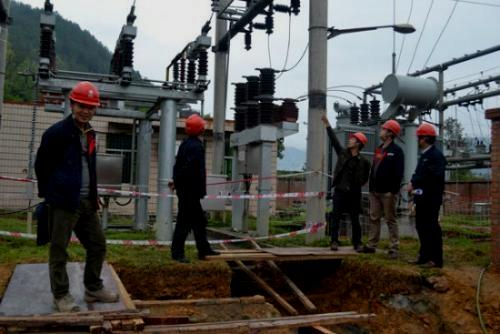helmet: (67, 81, 103, 123), (181, 113, 205, 141), (414, 122, 437, 150), (380, 118, 401, 145), (346, 129, 367, 155)
not_reflective: (34, 118, 98, 203), (171, 136, 208, 196), (409, 148, 447, 204), (330, 149, 367, 201), (367, 143, 405, 193)
